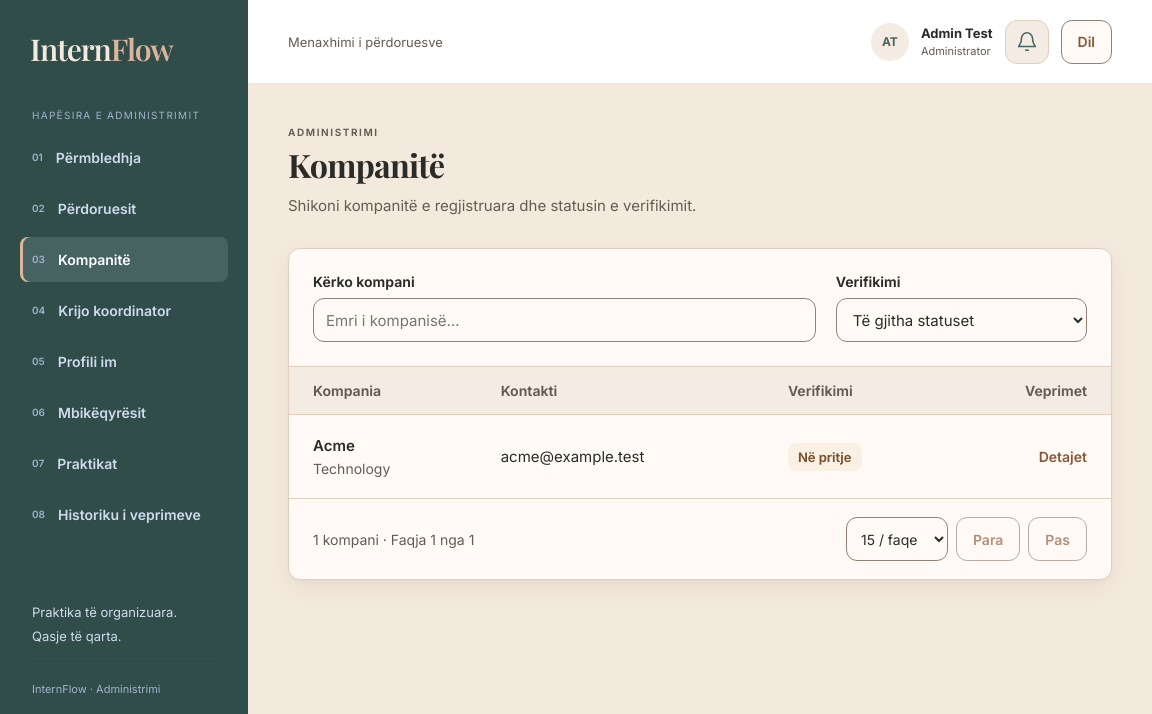
Test: Admin companies › loads real API-shaped data, sends filters and navigates to details
Expected: the text "acme@example.test" is shown, [477,415,764,498]
In the field labelled "Kërko kompani": (564, 320) [313,298,816,342], type "Acme"
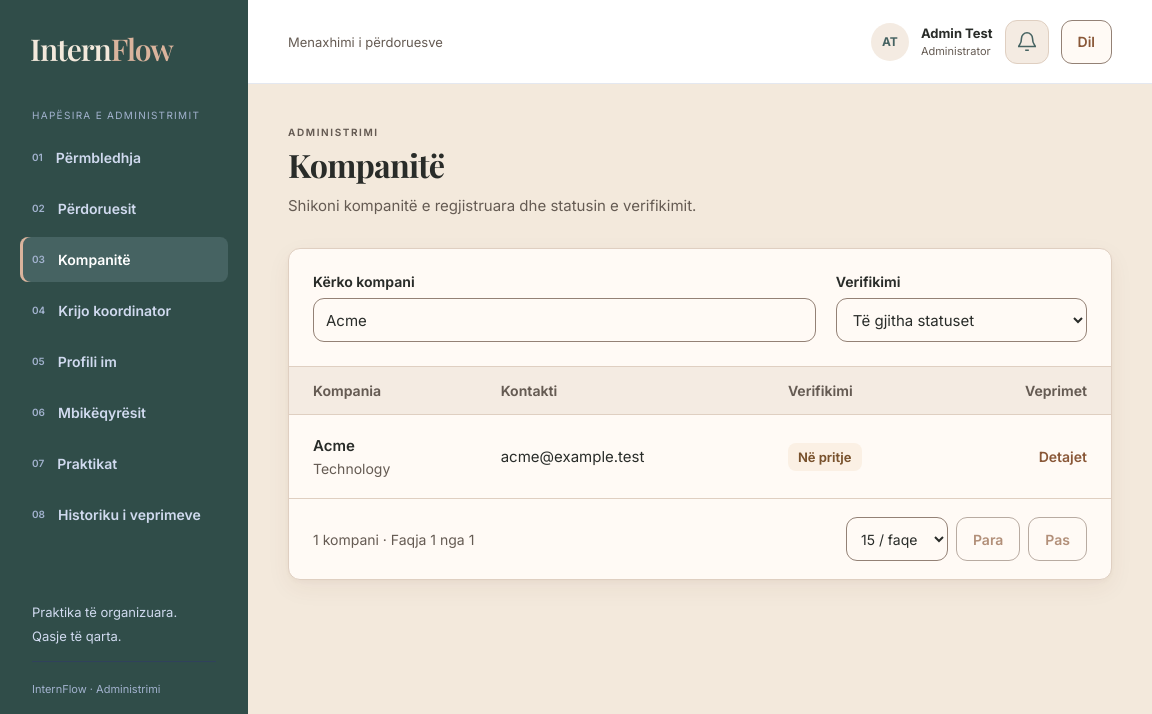
Select "Në pritje" in the dropdown labelled "Verifikimi": (961, 320) [836,298,1087,342]
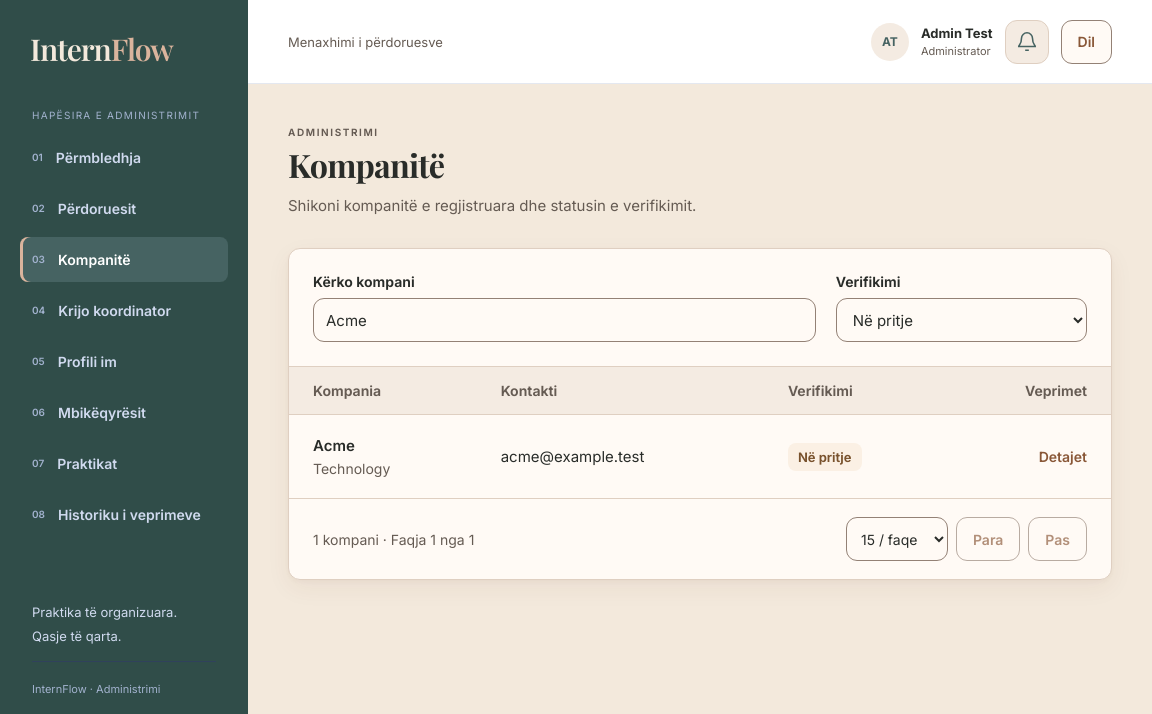
Click the link "Detajet": click(1063, 457) [1039,448,1087,465]
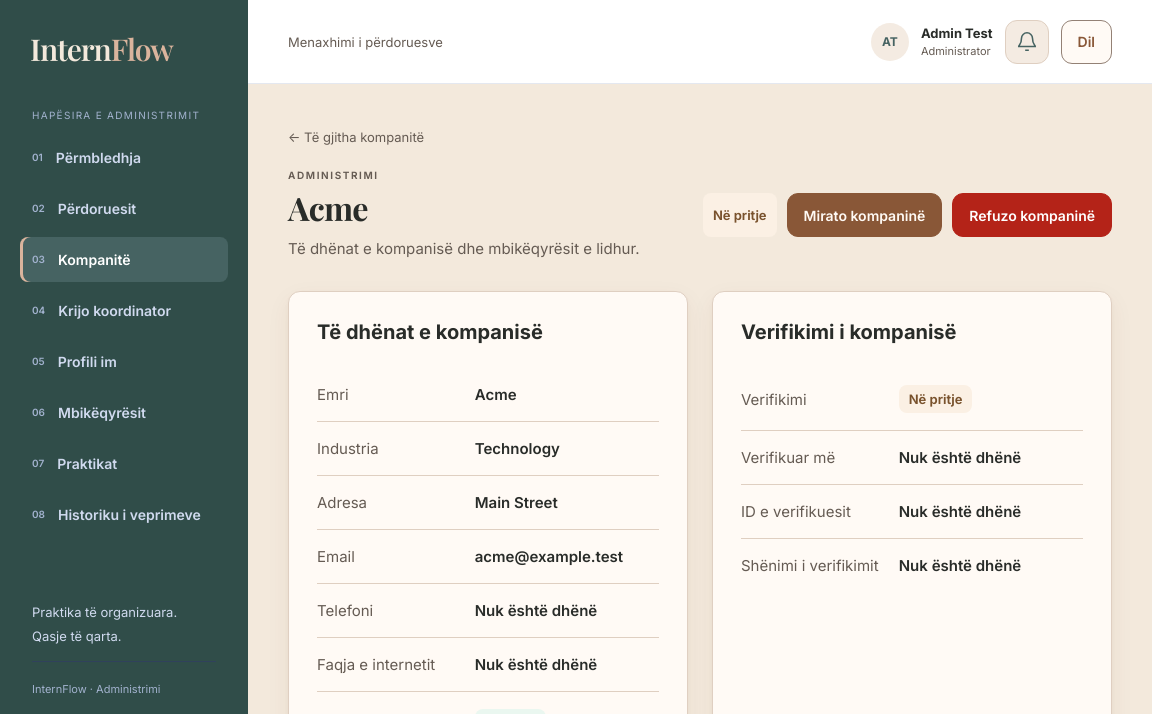
Now the text "Main Street" is shown, box [475,493,558,512]
